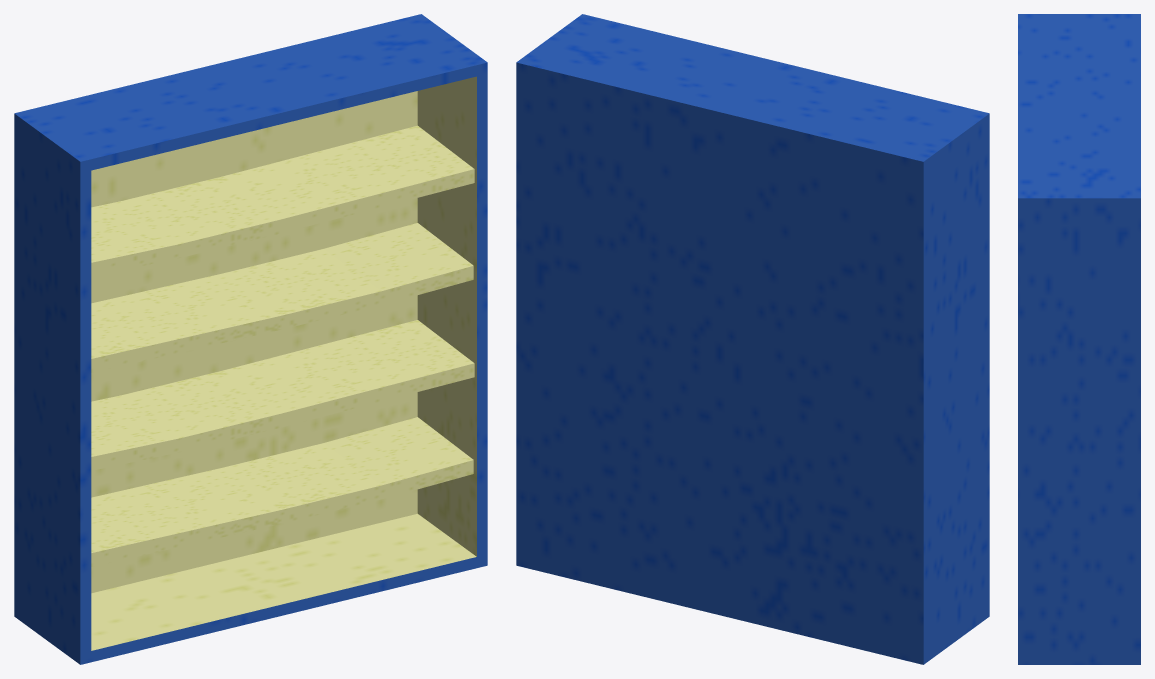
Rendered from library_bookshelf_wide_empty_blue.fbx.
3 views of the same model, side by side, from view 1: azimuth 30°, elevation 25°; view 2: azimuth 150°, elevation 25°; view 3: azimuth 270°, elevation 25° (orthographic). The views are drawn at different scales.
Parts seen in each view (by area): view 1: Cube.022, Cube.023; view 2: Cube.022; view 3: Cube.022.
Boxes of the visible parts, x1,y1,x2,y2 form: Cube.022: [14, 14, 487, 664]; Cube.023: [91, 125, 474, 566]; Cube.022: [516, 14, 989, 664]; Cube.022: [1018, 14, 1140, 664].
Bounding box in the file's own units: 213 × 251 × 59.89.
